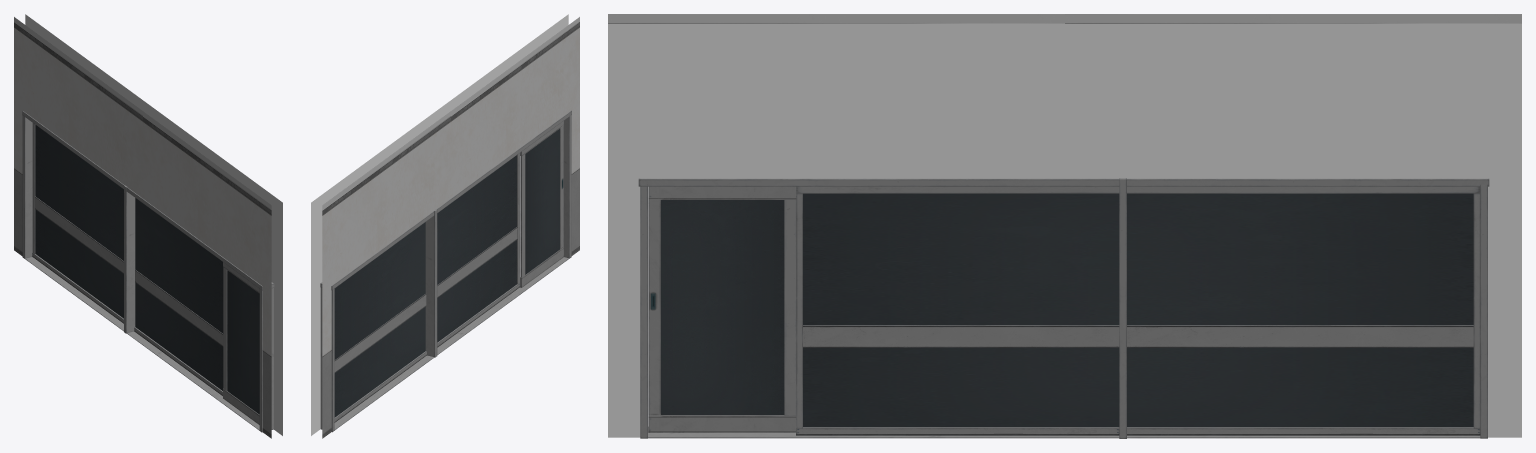
The model's file is HH_PatientRoom_Wall_Glass_8m_01.fbx.
3 views of the same model, side by side, from view 1: azimuth 30°, elevation 25°; view 2: azimuth 150°, elevation 25°; view 3: azimuth 270°, elevation 25° (orthographic). The views are drawn at different scales.
Parts seen in each view (by area): view 1: HH_PatientRoom_Wall_Glass_8m, HH_PatientRoom_Wall_Glass1_8m, HH_PatientRoom_Door_Glass_02, HH_PatientRoom_Door_02; view 2: HH_PatientRoom_Wall_Glass_8m, HH_PatientRoom_Wall_Glass1_8m, HH_PatientRoom_Door_Glass_02, HH_PatientRoom_Door_02; view 3: HH_PatientRoom_Wall_Glass_8m, HH_PatientRoom_Wall_Glass1_8m, HH_PatientRoom_Door_Glass_02, HH_PatientRoom_Door_02.
Boxes of the visible parts, bbox=[...] form: HH_PatientRoom_Wall_Glass_8m: bbox=[14, 14, 282, 438]; HH_PatientRoom_Wall_Glass1_8m: bbox=[35, 125, 223, 390]; HH_PatientRoom_Door_Glass_02: bbox=[227, 270, 259, 414]; HH_PatientRoom_Door_02: bbox=[223, 262, 259, 424]; HH_PatientRoom_Wall_Glass_8m: bbox=[311, 14, 579, 438]; HH_PatientRoom_Wall_Glass1_8m: bbox=[334, 155, 516, 417]; HH_PatientRoom_Door_Glass_02: bbox=[525, 129, 559, 274]; HH_PatientRoom_Door_02: bbox=[520, 121, 563, 287]; HH_PatientRoom_Wall_Glass_8m: bbox=[608, 14, 1521, 438]; HH_PatientRoom_Wall_Glass1_8m: bbox=[803, 193, 1473, 427]; HH_PatientRoom_Door_Glass_02: bbox=[661, 200, 784, 414]; HH_PatientRoom_Door_02: bbox=[648, 186, 796, 432].
Size of what is drawn, in the model's own units: 25.16 by 400 by 800.
